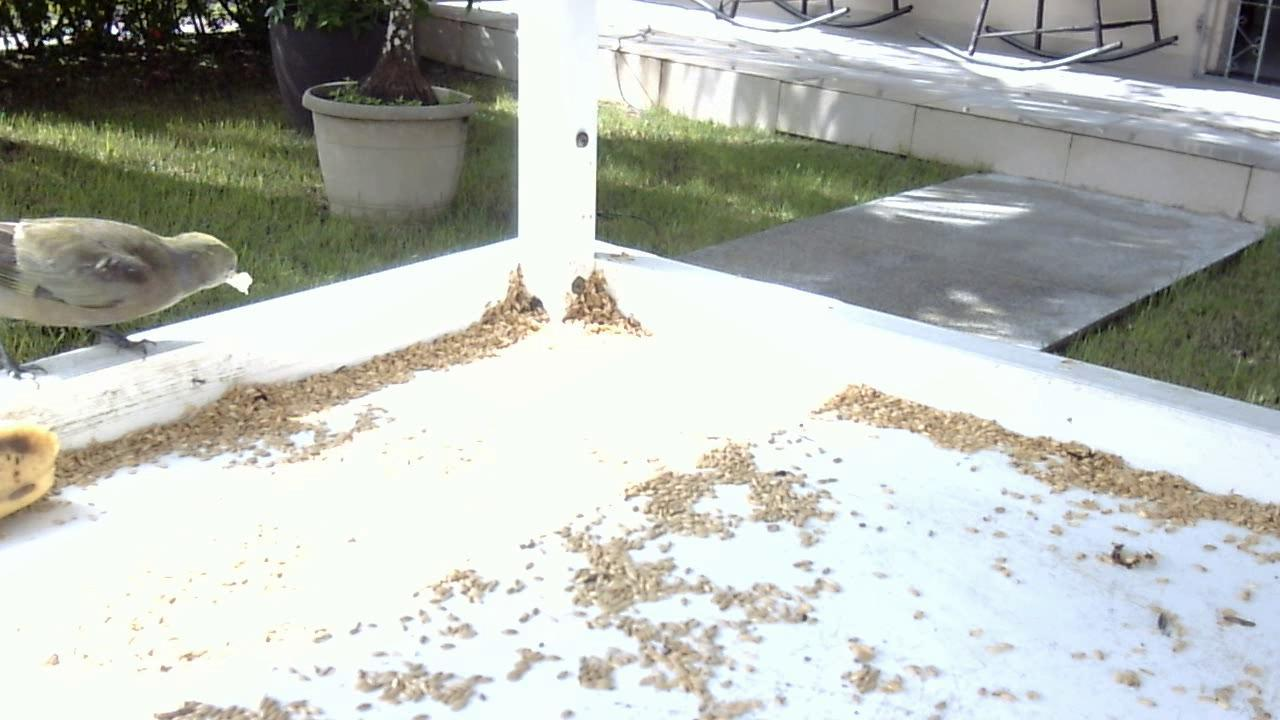sanhaco_do_coqueiro: (1, 217, 255, 387)
